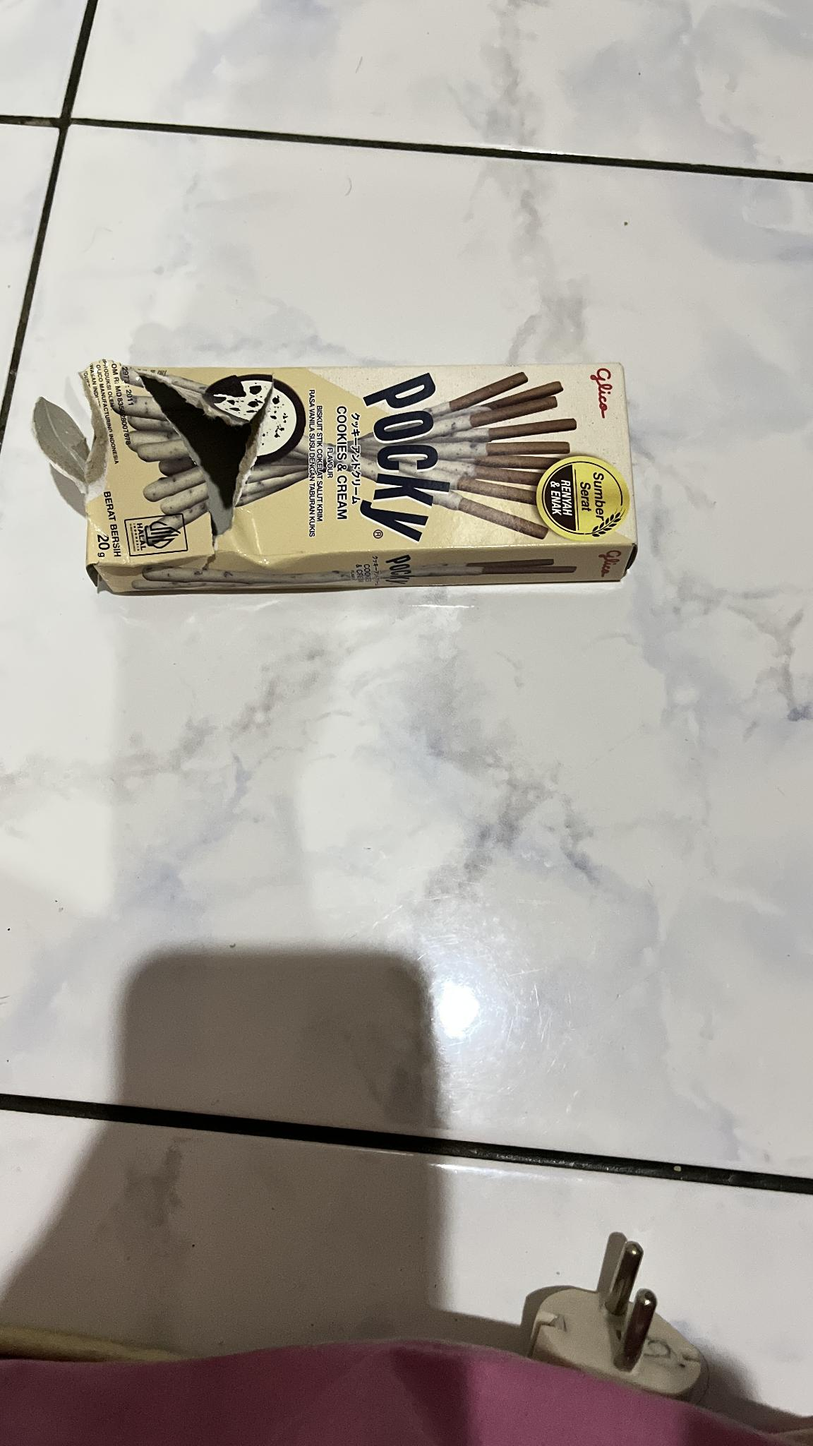Kertas: (90, 351, 631, 574)
